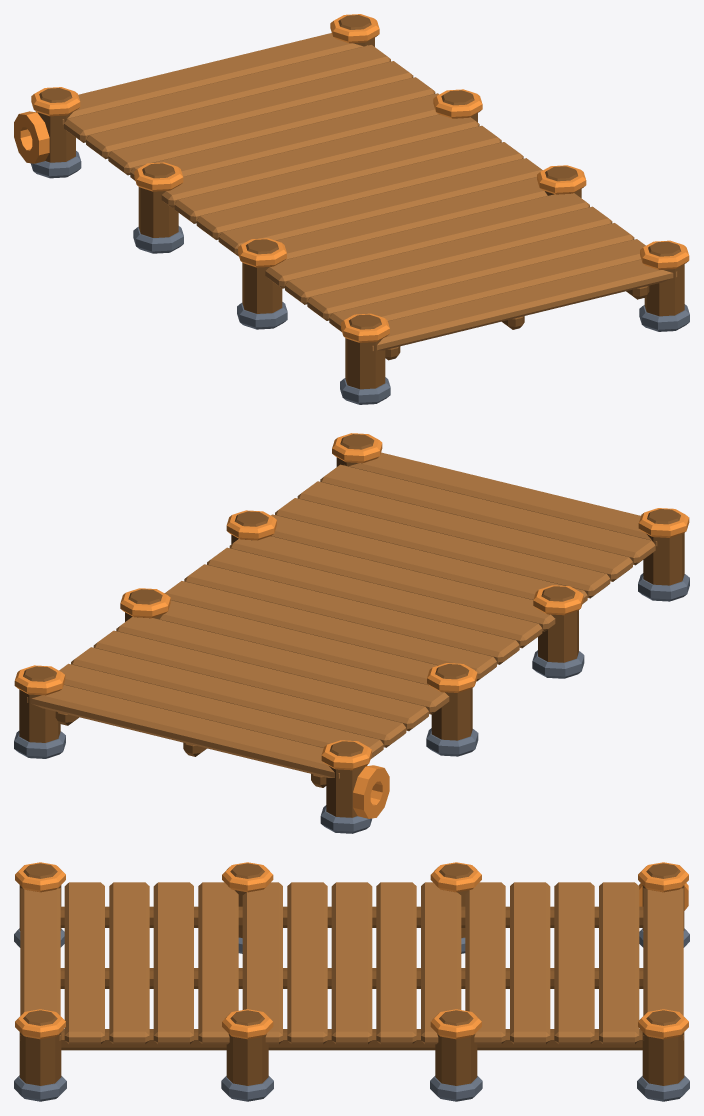
File: Prop_pirate_harbor_Dock.glb
3 renders of one model, top to bottom at view 1: azimuth 30°, elevation 25°; view 2: azimuth 150°, elevation 25°; view 3: azimuth 270°, elevation 25°, orthographic. The views are drawn at different scales.
Parts seen in each view (by area): view 1: Plank_B5793F, Post_8A5A2B, HarborOrange_FF9A3D, StoneDark_6B7686; view 2: Plank_B5793F, Post_8A5A2B, HarborOrange_FF9A3D, StoneDark_6B7686; view 3: Plank_B5793F, Post_8A5A2B, HarborOrange_FF9A3D, StoneDark_6B7686.
Part boxes in pixels (x1,y1,x2,y2): Plank_B5793F: (62,33,677,351); Post_8A5A2B: (35,15,684,389); HarborOrange_FF9A3D: (14,14,689,342); StoneDark_6B7686: (30,151,689,404); Plank_B5793F: (27,452,657,778); Post_8A5A2B: (19,434,684,817); HarborOrange_FF9A3D: (14,433,689,818); StoneDark_6B7686: (14,573,689,833); Plank_B5793F: (20,882,683,1044); Post_8A5A2B: (19,863,684,1085); HarborOrange_FF9A3D: (15,862,688,1039); StoneDark_6B7686: (14,928,689,1101).
Size of the model in its own units: 14.68 by 3 by 24.3.
